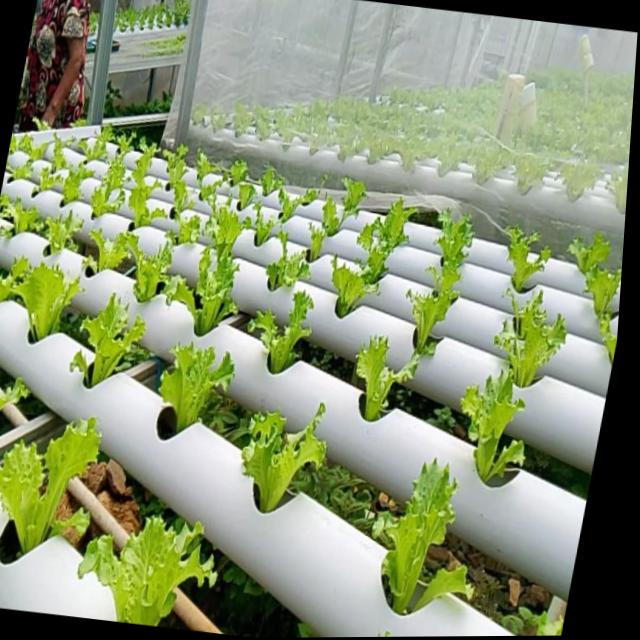Baby: (76, 513, 214, 624), (0, 415, 98, 549), (371, 458, 454, 613), (404, 210, 470, 362), (239, 403, 323, 512), (155, 343, 231, 439), (456, 371, 520, 483), (490, 291, 561, 388), (73, 293, 142, 387), (11, 257, 81, 339), (352, 336, 416, 421), (245, 291, 311, 373), (354, 199, 413, 284), (115, 231, 176, 304), (87, 135, 128, 217), (579, 263, 622, 337), (256, 232, 307, 292), (200, 199, 248, 262), (502, 227, 546, 293), (328, 257, 375, 318), (59, 161, 89, 203), (75, 124, 109, 159), (196, 173, 220, 205), (174, 214, 198, 243), (47, 134, 63, 171)
